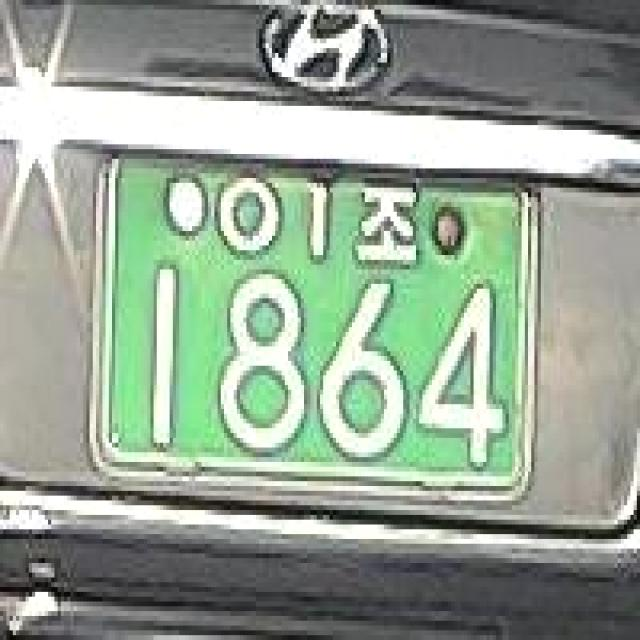illegal_plate: (75, 114, 551, 534)
